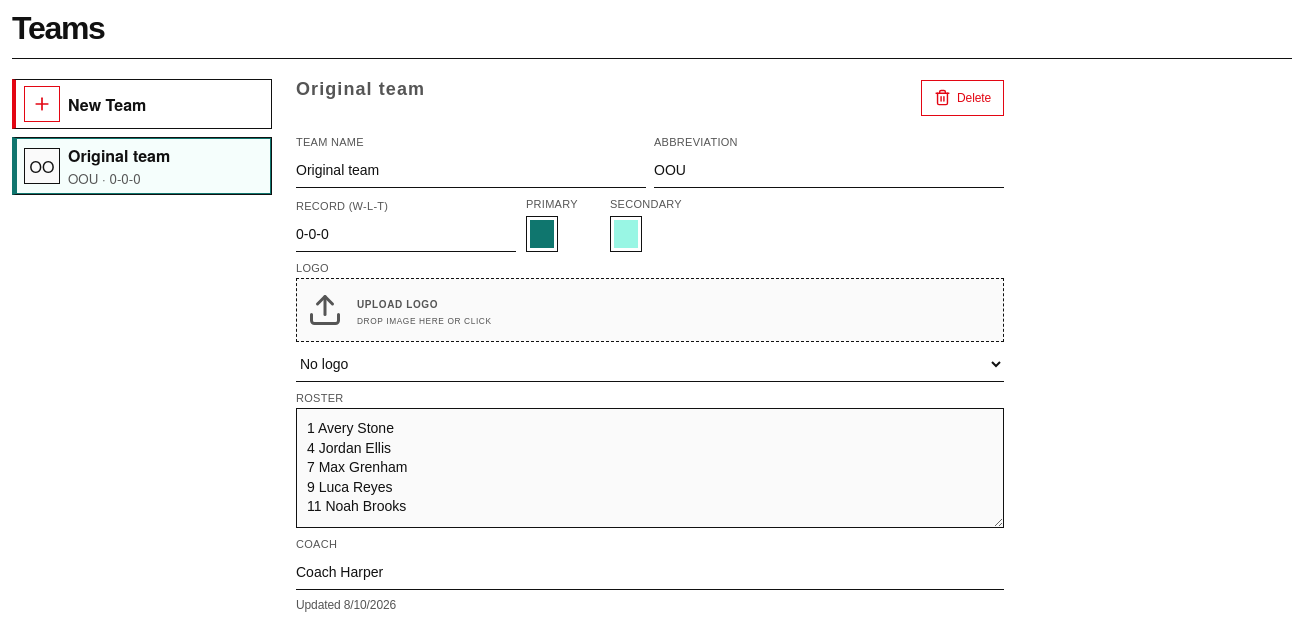
Test: TeamsLibrary concurrency and reconciliation › reconciles the editor with the canonical team returned by the server
This screenshot has width=1292, height=629.
Step 1. Replace the text in the field labelled "Team name" with "   unnormalized team   " → x=471, y=170, box [296,152,646,188]
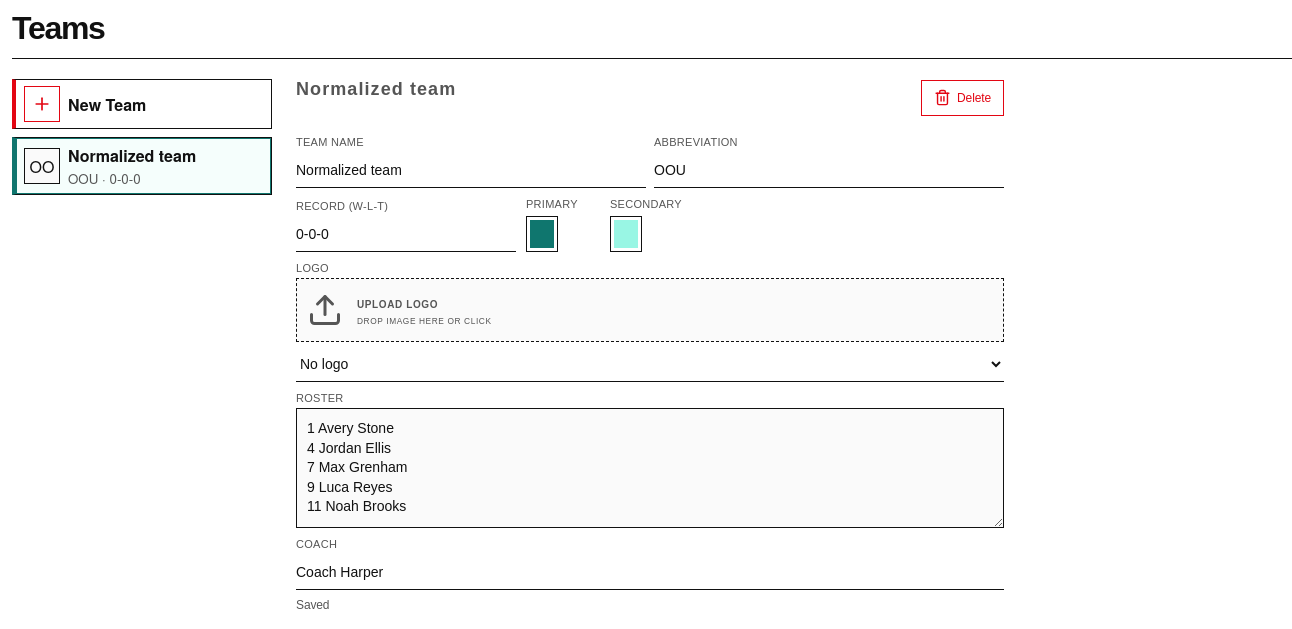
Now the field labelled "Team name" holds "Normalized team", box [296,152,646,188]
Now the heading "Normalized team" is shown, box [296,79,456,106]
